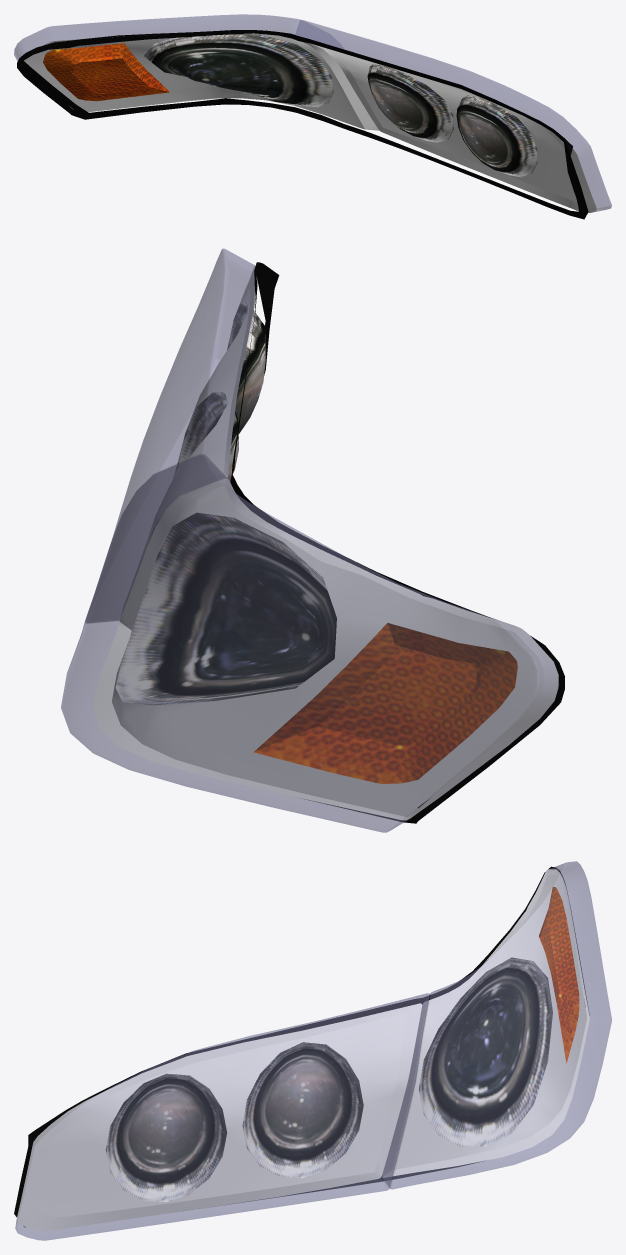
3 renders of one model, top to bottom at view 1: azimuth 30°, elevation 25°; view 2: azimuth 150°, elevation 25°; view 3: azimuth 270°, elevation 25°, orthographic. The views are drawn at different scales.
Parts seen in each view (by area): view 1: Y173_061B_L_Y173_061B_L_1_DaS, Y173_061B_L_Y173_061B_L_7_DTaSI, Y173_061B_L_Y173_061B_L_5_N, Y173_061B_L_8_D_Y173_061B_L, Y173_061B_L_Y173_061B_L_6_N, Y173_061B_L_Y173_061B_L_4_N, Y173_061B_L_Y173_061B_L_3_N; view 2: Y173_061B_L_Y173_061B_L_7_DTaSI, Y173_061B_L_Y173_061B_L_1_DaS, Y173_061B_L_Y173_061B_L_5_N, Y173_061B_L_Y173_061B_L_6_N, Y173_061B_L_8_D_Y173_061B_L, Y173_061B_L_Y173_061B_L_4_N, Y173_061B_L_Y173_061B_L_3_N; view 3: Y173_061B_L_Y173_061B_L_7_DTaSI, Y173_061B_L_Y173_061B_L_1_DaS, Y173_061B_L_Y173_061B_L_5_N, Y173_061B_L_Y173_061B_L_3_N, Y173_061B_L_Y173_061B_L_4_N, Y173_061B_L_Y173_061B_L_6_N, Y173_061B_L_8_D_Y173_061B_L.
Part boxes in pixels (x1,y1,x2,y2): Y173_061B_L_Y173_061B_L_1_DaS: [24, 33, 596, 212]; Y173_061B_L_Y173_061B_L_7_DTaSI: [14, 14, 611, 211]; Y173_061B_L_Y173_061B_L_5_N: [144, 34, 333, 107]; Y173_061B_L_8_D_Y173_061B_L: [17, 30, 588, 219]; Y173_061B_L_Y173_061B_L_6_N: [43, 43, 169, 101]; Y173_061B_L_Y173_061B_L_4_N: [456, 95, 537, 177]; Y173_061B_L_Y173_061B_L_3_N: [367, 63, 453, 142]; Y173_061B_L_Y173_061B_L_7_DTaSI: [61, 248, 558, 832]; Y173_061B_L_Y173_061B_L_1_DaS: [92, 265, 558, 820]; Y173_061B_L_Y173_061B_L_5_N: [116, 512, 336, 705]; Y173_061B_L_Y173_061B_L_6_N: [254, 623, 517, 783]; Y173_061B_L_8_D_Y173_061B_L: [230, 262, 564, 823]; Y173_061B_L_Y173_061B_L_4_N: [227, 302, 265, 434]; Y173_061B_L_Y173_061B_L_3_N: [150, 392, 238, 538]; Y173_061B_L_Y173_061B_L_7_DTaSI: [15, 861, 611, 1240]; Y173_061B_L_Y173_061B_L_1_DaS: [17, 869, 589, 1231]; Y173_061B_L_Y173_061B_L_5_N: [419, 957, 552, 1146]; Y173_061B_L_Y173_061B_L_3_N: [242, 1042, 363, 1178]; Y173_061B_L_Y173_061B_L_4_N: [106, 1074, 226, 1201]; Y173_061B_L_Y173_061B_L_6_N: [539, 887, 579, 1062]; Y173_061B_L_8_D_Y173_061B_L: [14, 866, 589, 1226].
Bounding box in the file's own units: 49.28 × 15.16 × 50.93.
